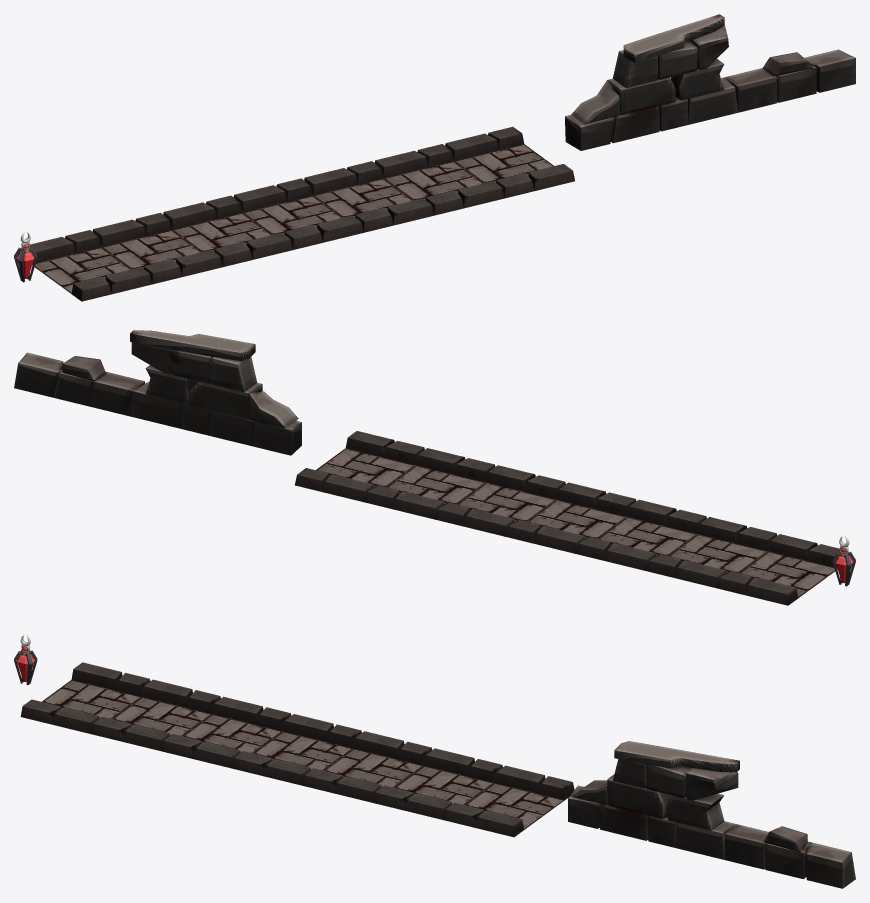
Rendered from changjing2.fbx.
The picture shows the model from 3 angles, top to bottom: view 1: azimuth 30°, elevation 25°; view 2: azimuth 150°, elevation 25°; view 3: azimuth 330°, elevation 25°; orthographic projection.
Visible parts, largest first — view 1: 对象049, 对象039, 对象047; view 2: 对象049, 对象039, 对象047; view 3: 对象049, 对象039, 对象047.
Part boxes in pixels (x1,y1,x2,y2): 对象049: (29, 126, 574, 301); 对象039: (565, 14, 855, 150); 对象047: (14, 231, 37, 282); 对象049: (295, 431, 839, 605); 对象039: (14, 330, 301, 455); 对象047: (832, 536, 855, 586); 对象049: (20, 662, 574, 837); 对象039: (568, 741, 855, 888); 对象047: (14, 634, 37, 685).
Bounding box in the file's own units: 15.84 × 1.67 × 2.01.
